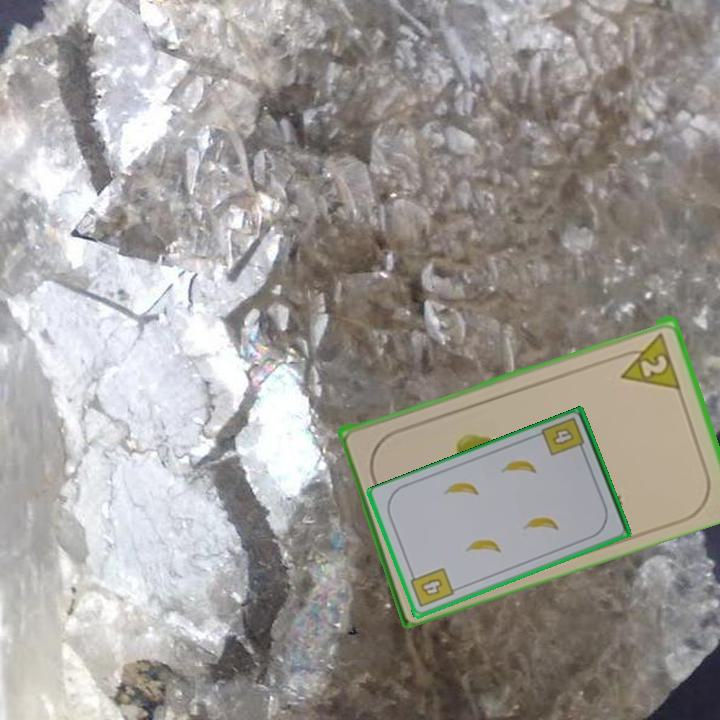2p: (612, 328, 683, 391)
4b: (406, 564, 457, 610), (538, 414, 588, 458)
